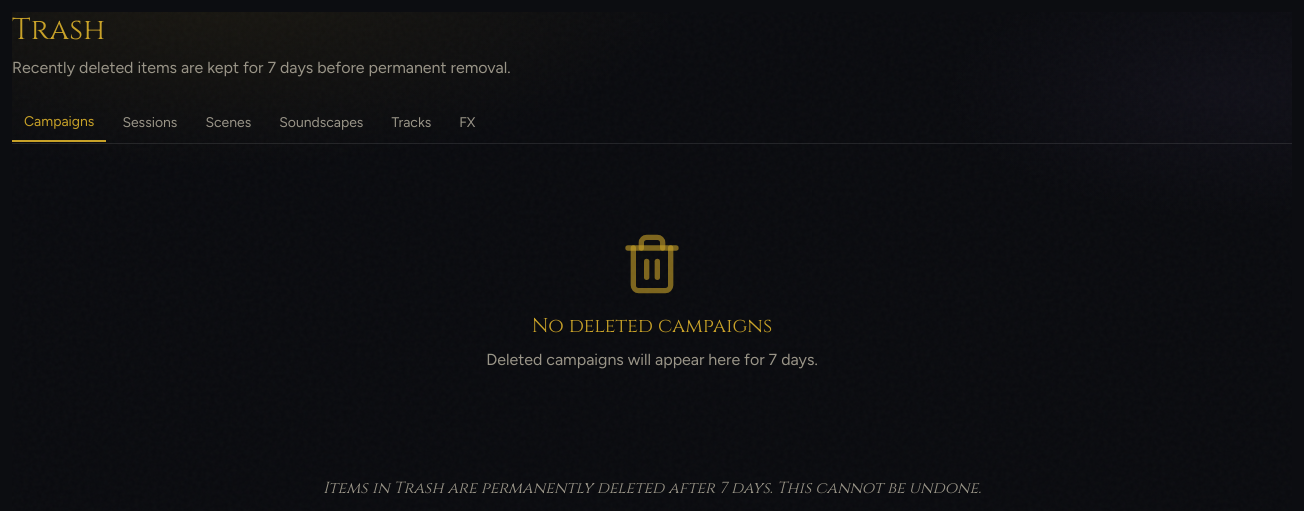
Test case: TrashPage › lists soft-deleted tracks and restores them from the Tracks tab
The image size is (1304, 511).
Click the tab "Tracks".
click(411, 127)  # box x1=379 y1=112 x2=443 y2=142
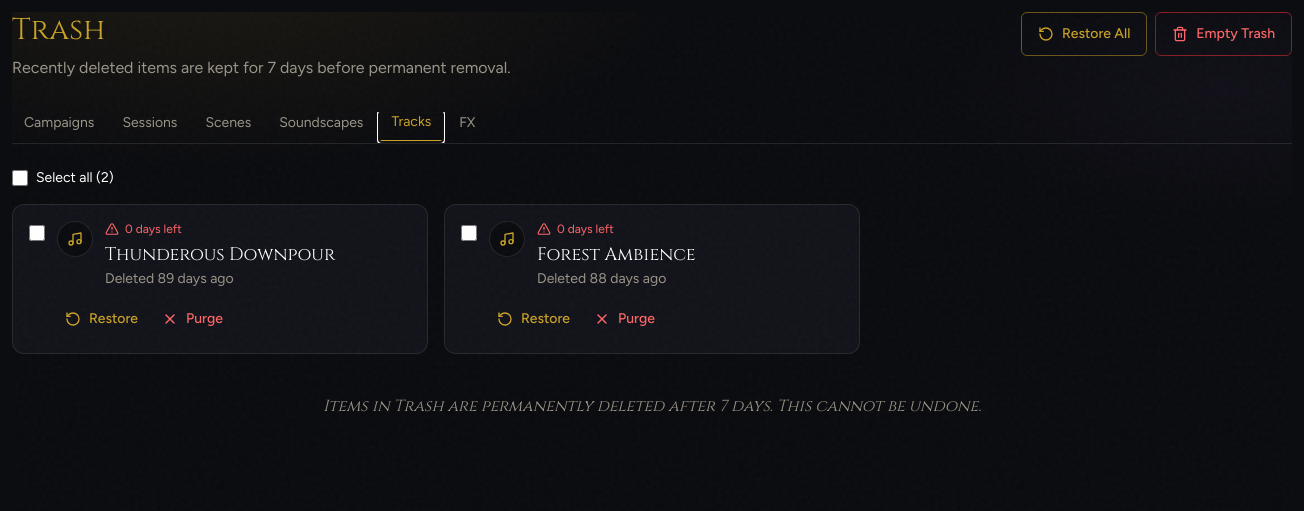
expect the heading "Thunderous Downpour" is shown: met, box x1=105 y1=242 x2=335 y2=267
expect the heading "Forest Ambience" is shown: met, box x1=537 y1=242 x2=696 y2=267
Click the button with aria-label "restore thunderous downpour".
click(102, 319)  # box x1=57 y1=301 x2=146 y2=337
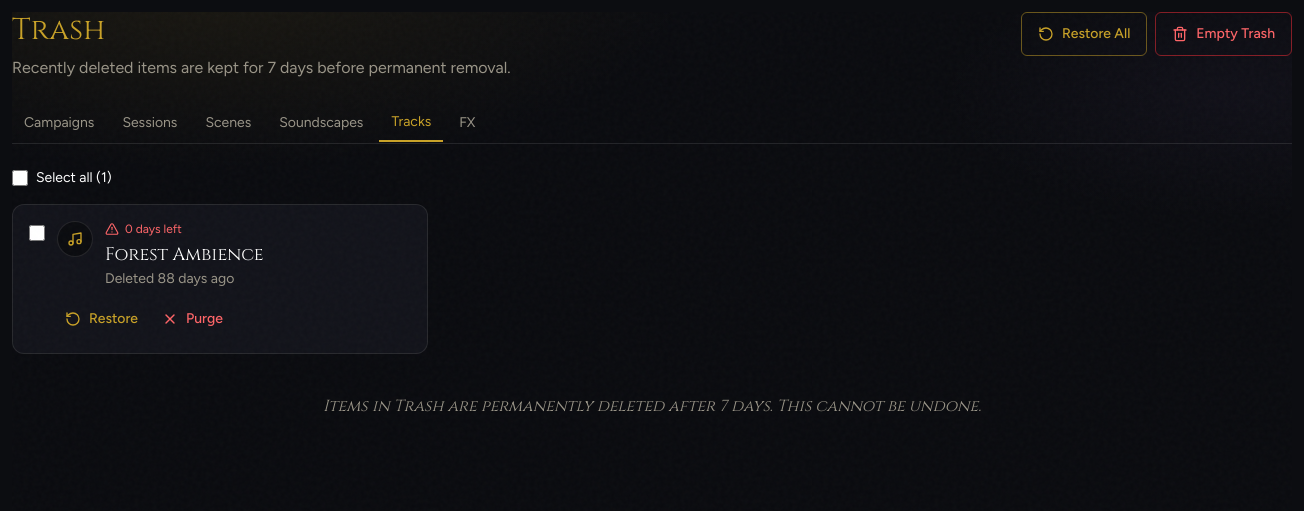
expect the heading "Forest Ambience" is shown: met, box x1=105 y1=242 x2=264 y2=267
expect the heading "Thunderous Downpour" is gone: met
